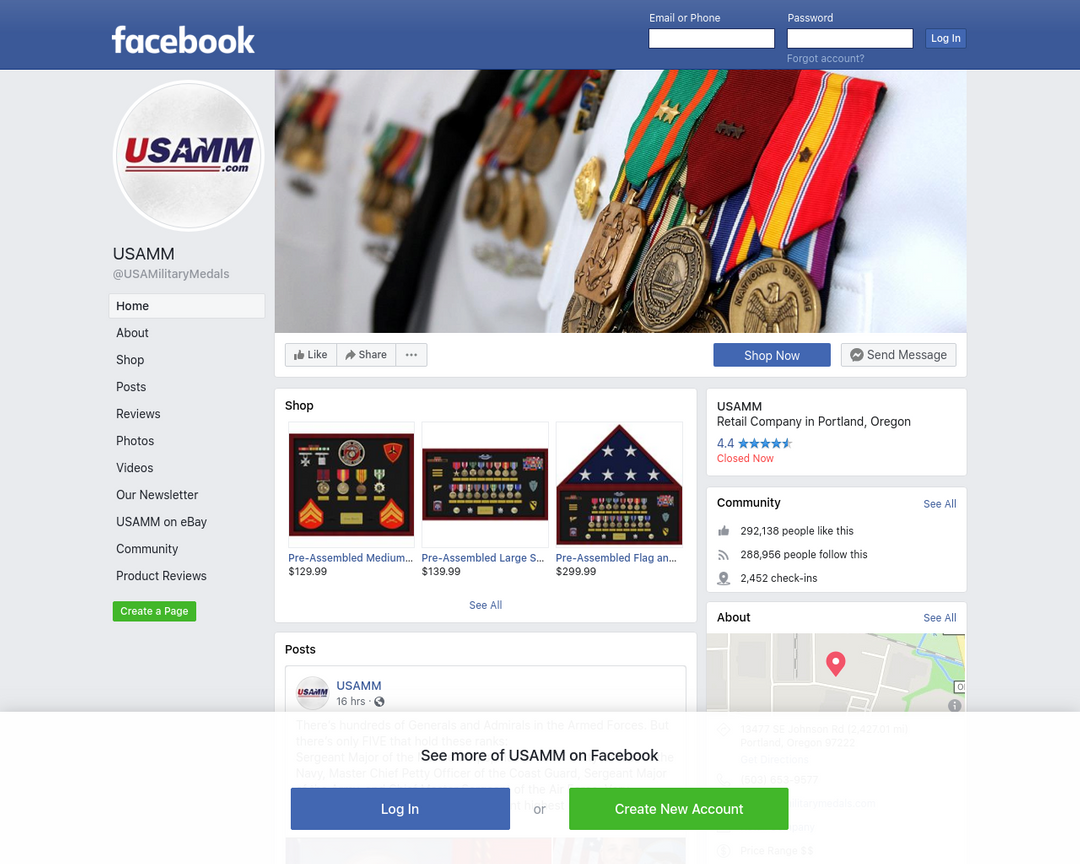Facebook: (110, 19, 265, 61)
